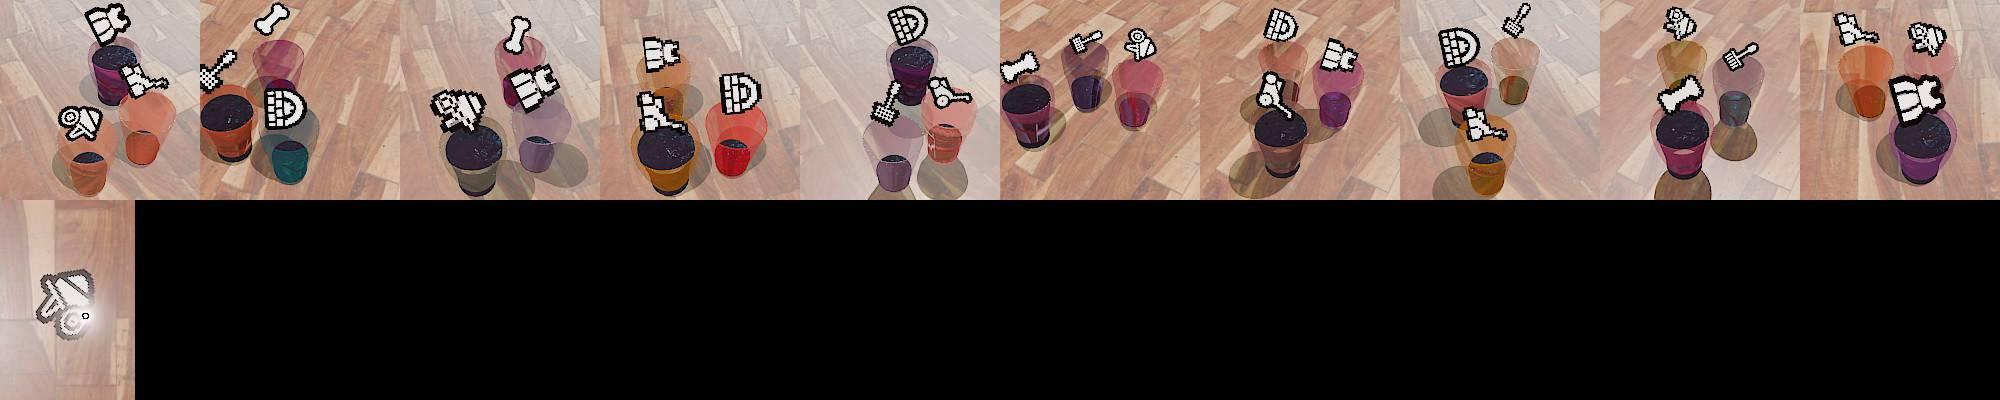icon: (33, 268, 99, 344), (503, 62, 561, 115), (429, 87, 489, 134), (1889, 74, 1945, 124), (635, 88, 684, 134), (264, 83, 309, 130), (84, 1, 131, 46), (1657, 75, 1707, 116), (718, 71, 761, 116), (200, 47, 240, 94), (57, 103, 103, 143), (886, 5, 929, 46), (927, 74, 974, 110), (1460, 107, 1508, 143), (122, 62, 170, 98), (1437, 27, 1480, 66), (1833, 11, 1879, 47), (870, 83, 904, 127), (1907, 20, 1948, 57), (642, 36, 681, 73), (1256, 70, 1292, 111), (999, 48, 1040, 84), (254, 1, 292, 37), (1318, 37, 1357, 71), (1264, 8, 1298, 43), (1721, 41, 1759, 73), (503, 15, 533, 55), (1663, 6, 1698, 41), (1124, 27, 1157, 62), (1501, 1, 1532, 38), (1070, 28, 1105, 56)
